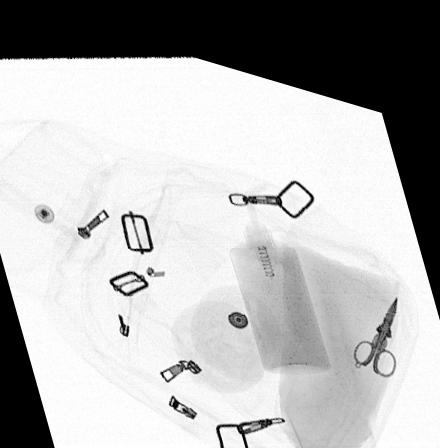Scissors: (350, 270, 397, 354)
